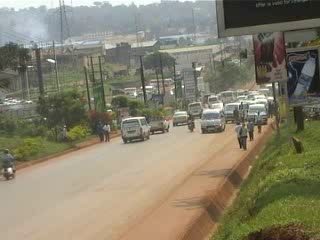Car: (172, 108, 193, 126)
Motorcycle: (1, 160, 17, 182), (184, 117, 195, 134)
